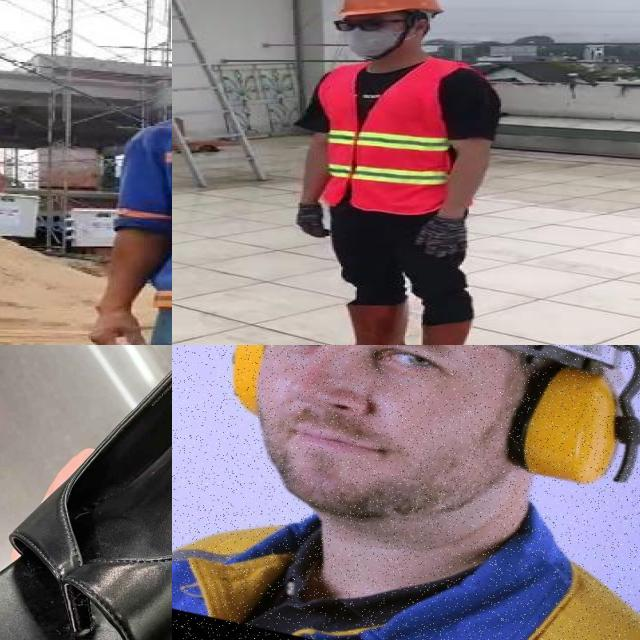Ear-protection: (501, 359, 628, 478), (230, 345, 278, 417)
No_Glasses: (353, 345, 458, 407), (260, 345, 341, 371)
Sandals: (0, 345, 172, 640)
boots: (312, 303, 410, 345), (397, 318, 472, 345)
face_mask: (332, 12, 410, 59)
glasses: (329, 13, 403, 36)
hand_glove: (412, 215, 469, 258), (294, 200, 336, 238)
hand_noglove: (84, 300, 150, 345)
head_helmet: (328, 0, 447, 17)
person: (285, 0, 506, 345), (91, 0, 172, 345)
vest: (313, 62, 487, 216)
